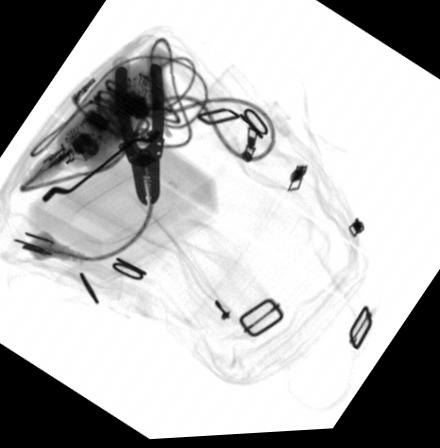Pliers: (106, 45, 165, 209)
Wrench: (41, 127, 161, 204)
